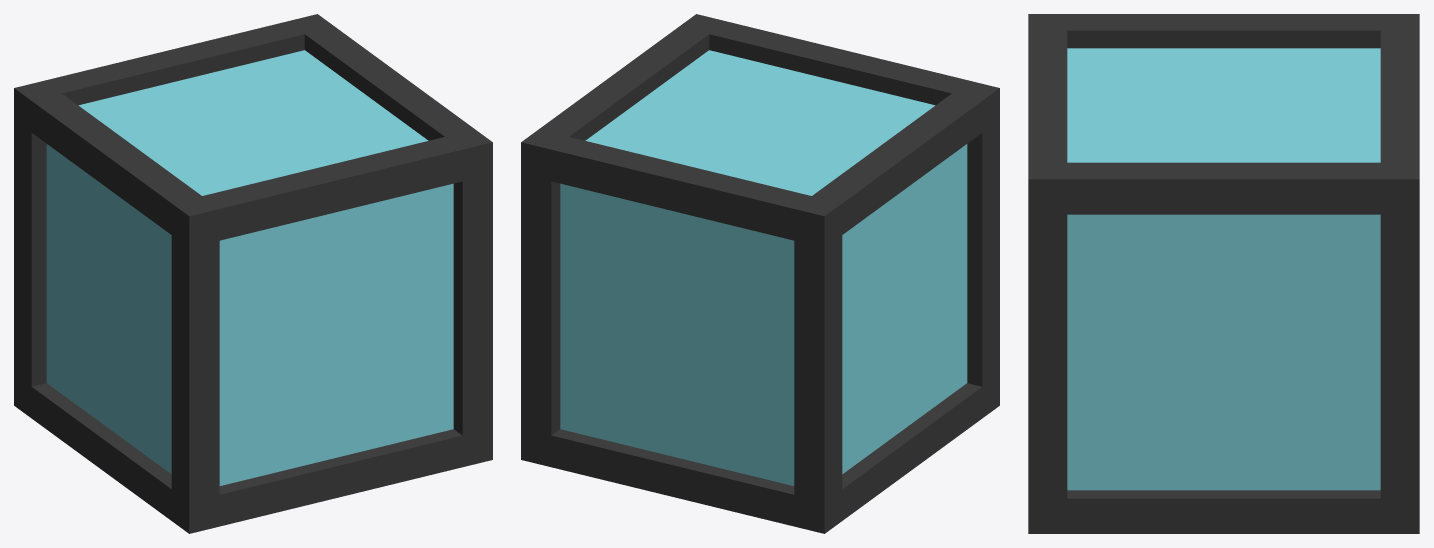
Rendered from glass.glb.
3 renders of one model, left to right at view 1: azimuth 30°, elevation 25°; view 2: azimuth 150°, elevation 25°; view 3: azimuth 270°, elevation 25°, orthographic. The views are drawn at different scales.
Visible parts, largest first — view 1: Cube; view 2: Cube; view 3: Cube.
Part boxes in pixels (x1,y1,x2,y2): Cube: (14,14,492,533); Cube: (521,14,999,533); Cube: (1028,14,1419,533).
Bounding box in the file's own units: 1 × 1 × 1.
